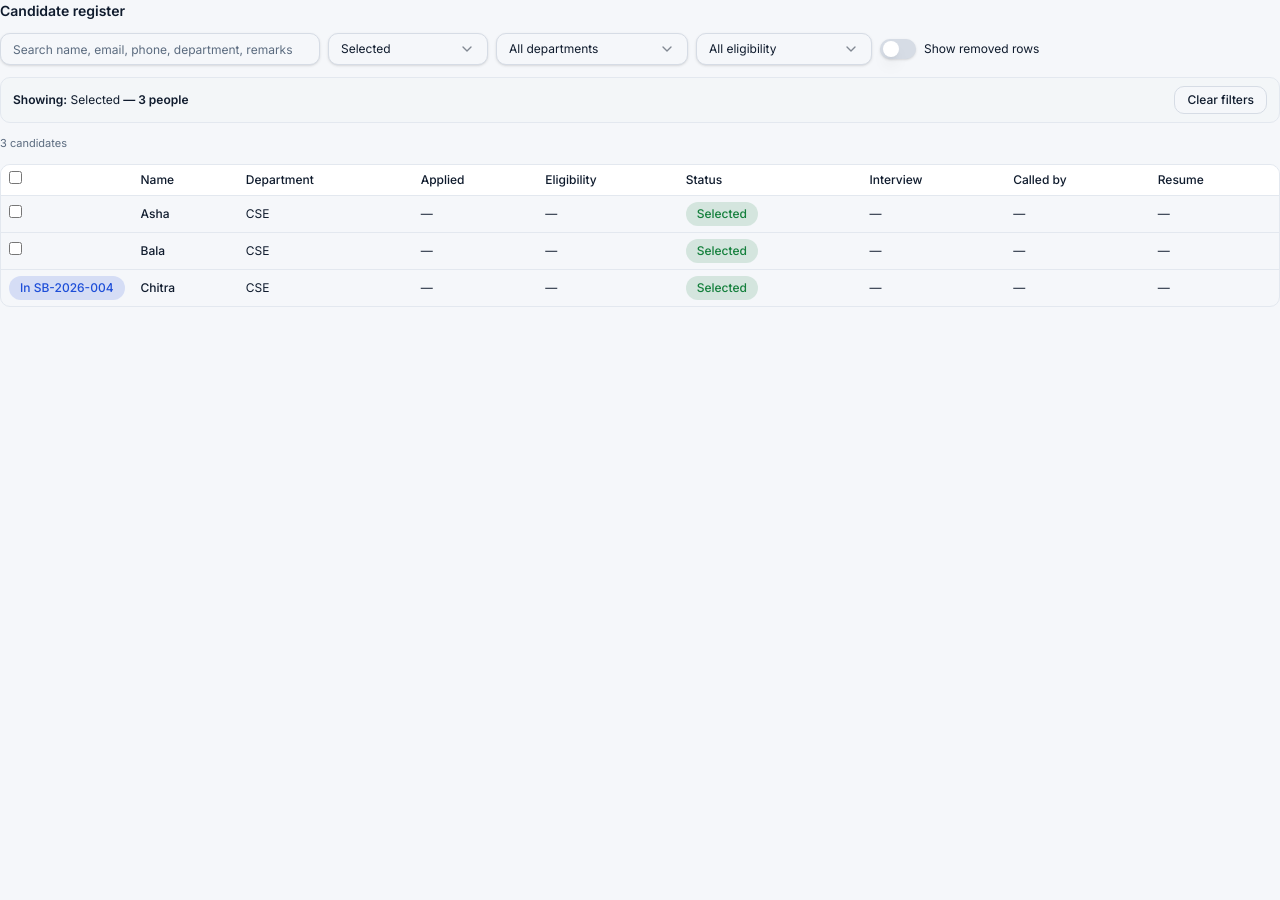
Test: TalentPoolRegister batch selection › shows the server's 409 message and keeps the dialog open
Step 1. Click the checkbox named "Select Asha" → (16, 211), box [9,204,22,218]
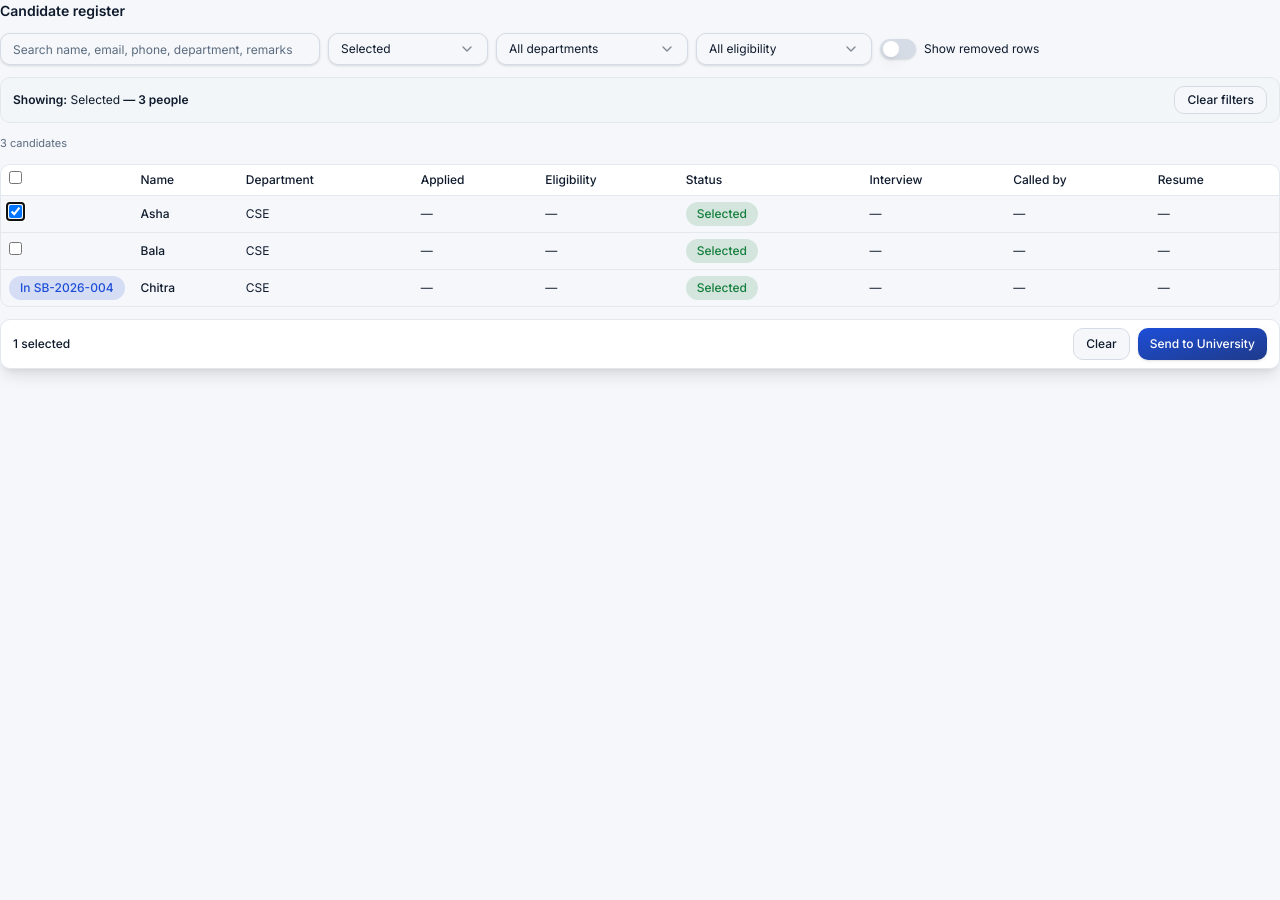
Step 2. Click the button "Send to University" → (1202, 344), box [1138,328,1267,360]
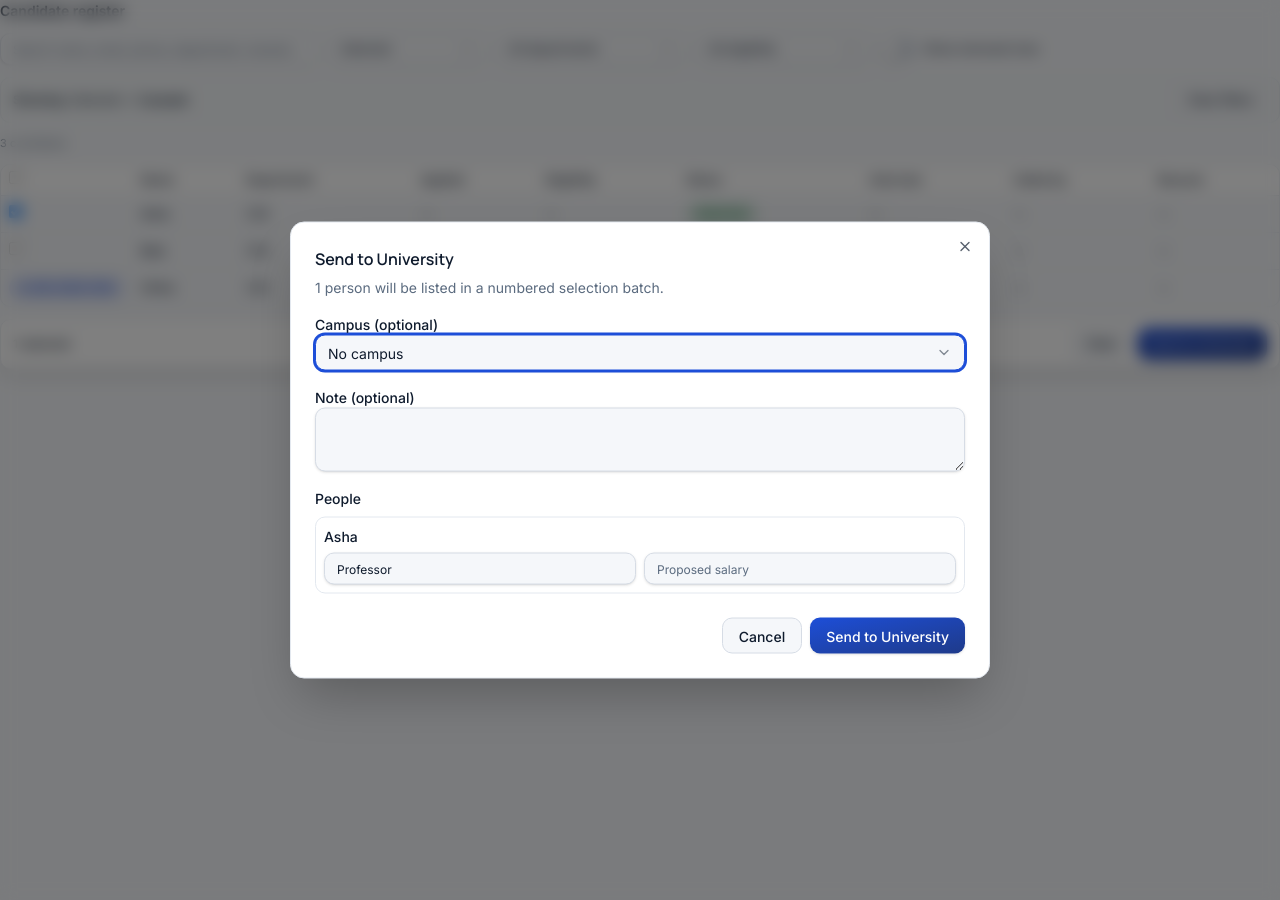
Step 3. Click the button "Send to University" → (888, 636), box [810,618,965,654]
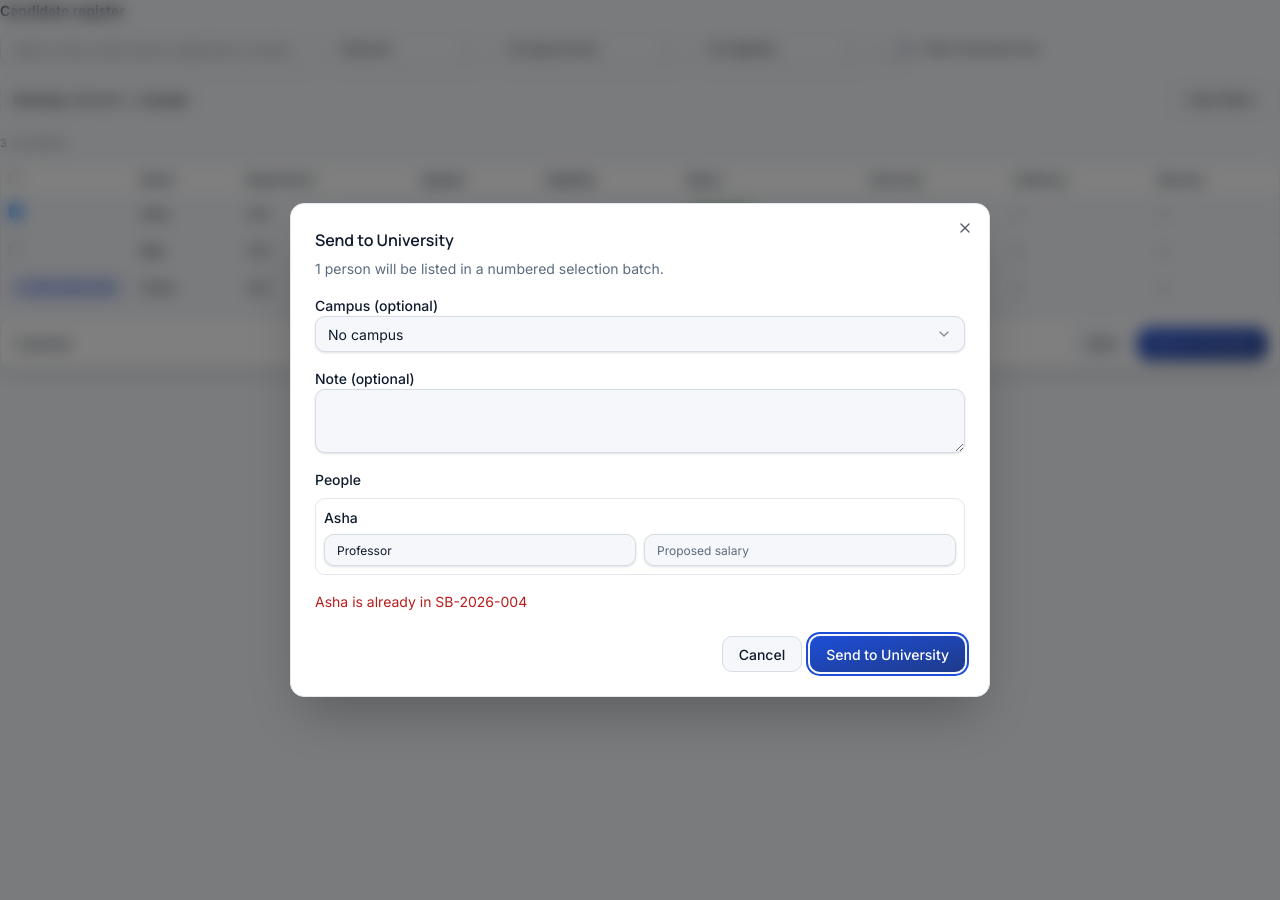
Now the message reads "Asha is already in SB-2026-004", box [315,593,527,610]
